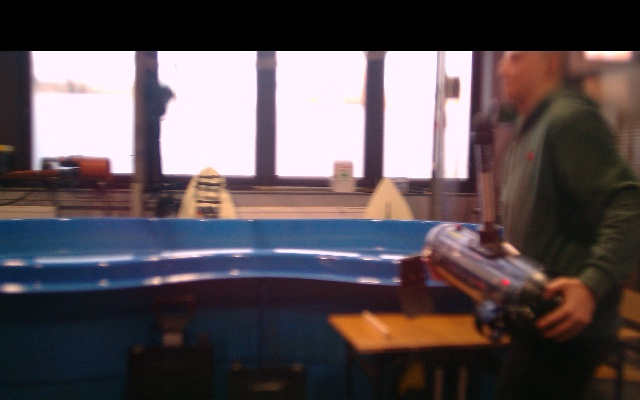black: (478, 164, 498, 236)
